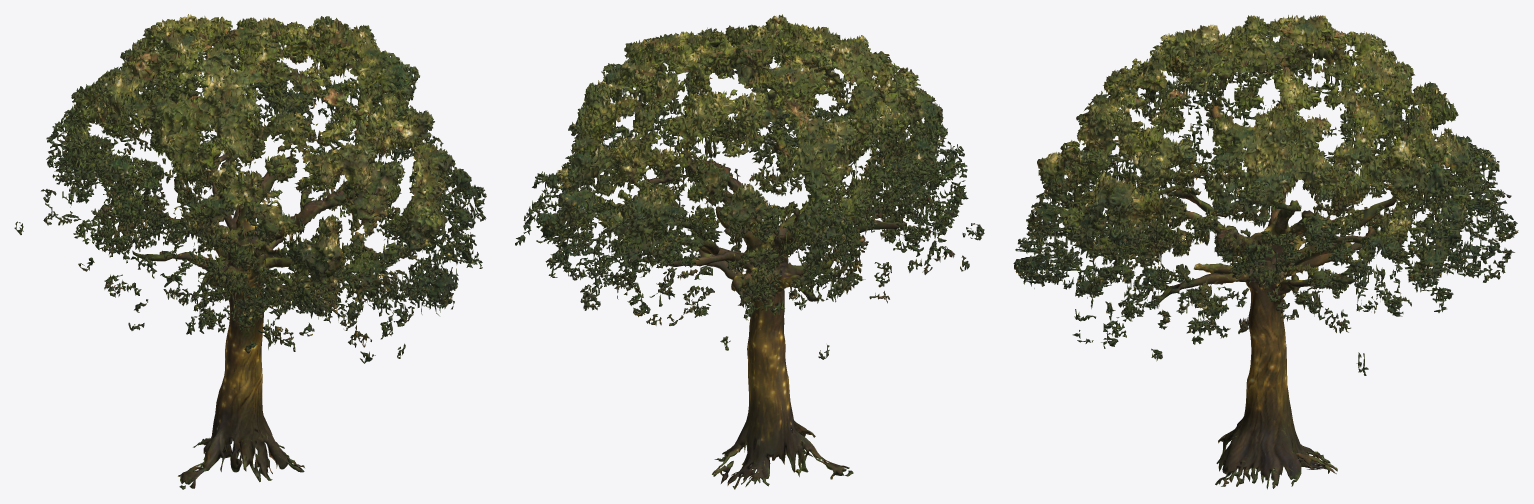
File: Meshy_AI_Enchanted_Glow_1115232739_texture.glb
The picture shows the model from 3 angles, left to right: view 1: azimuth 30°, elevation 25°; view 2: azimuth 150°, elevation 25°; view 3: azimuth 270°, elevation 25°; orthographic projection. The views are drawn at different scales.
Bounding box in the file's own units: 1.74 × 1.9 × 1.98.
Materials: 1 (1 with a texture image).
